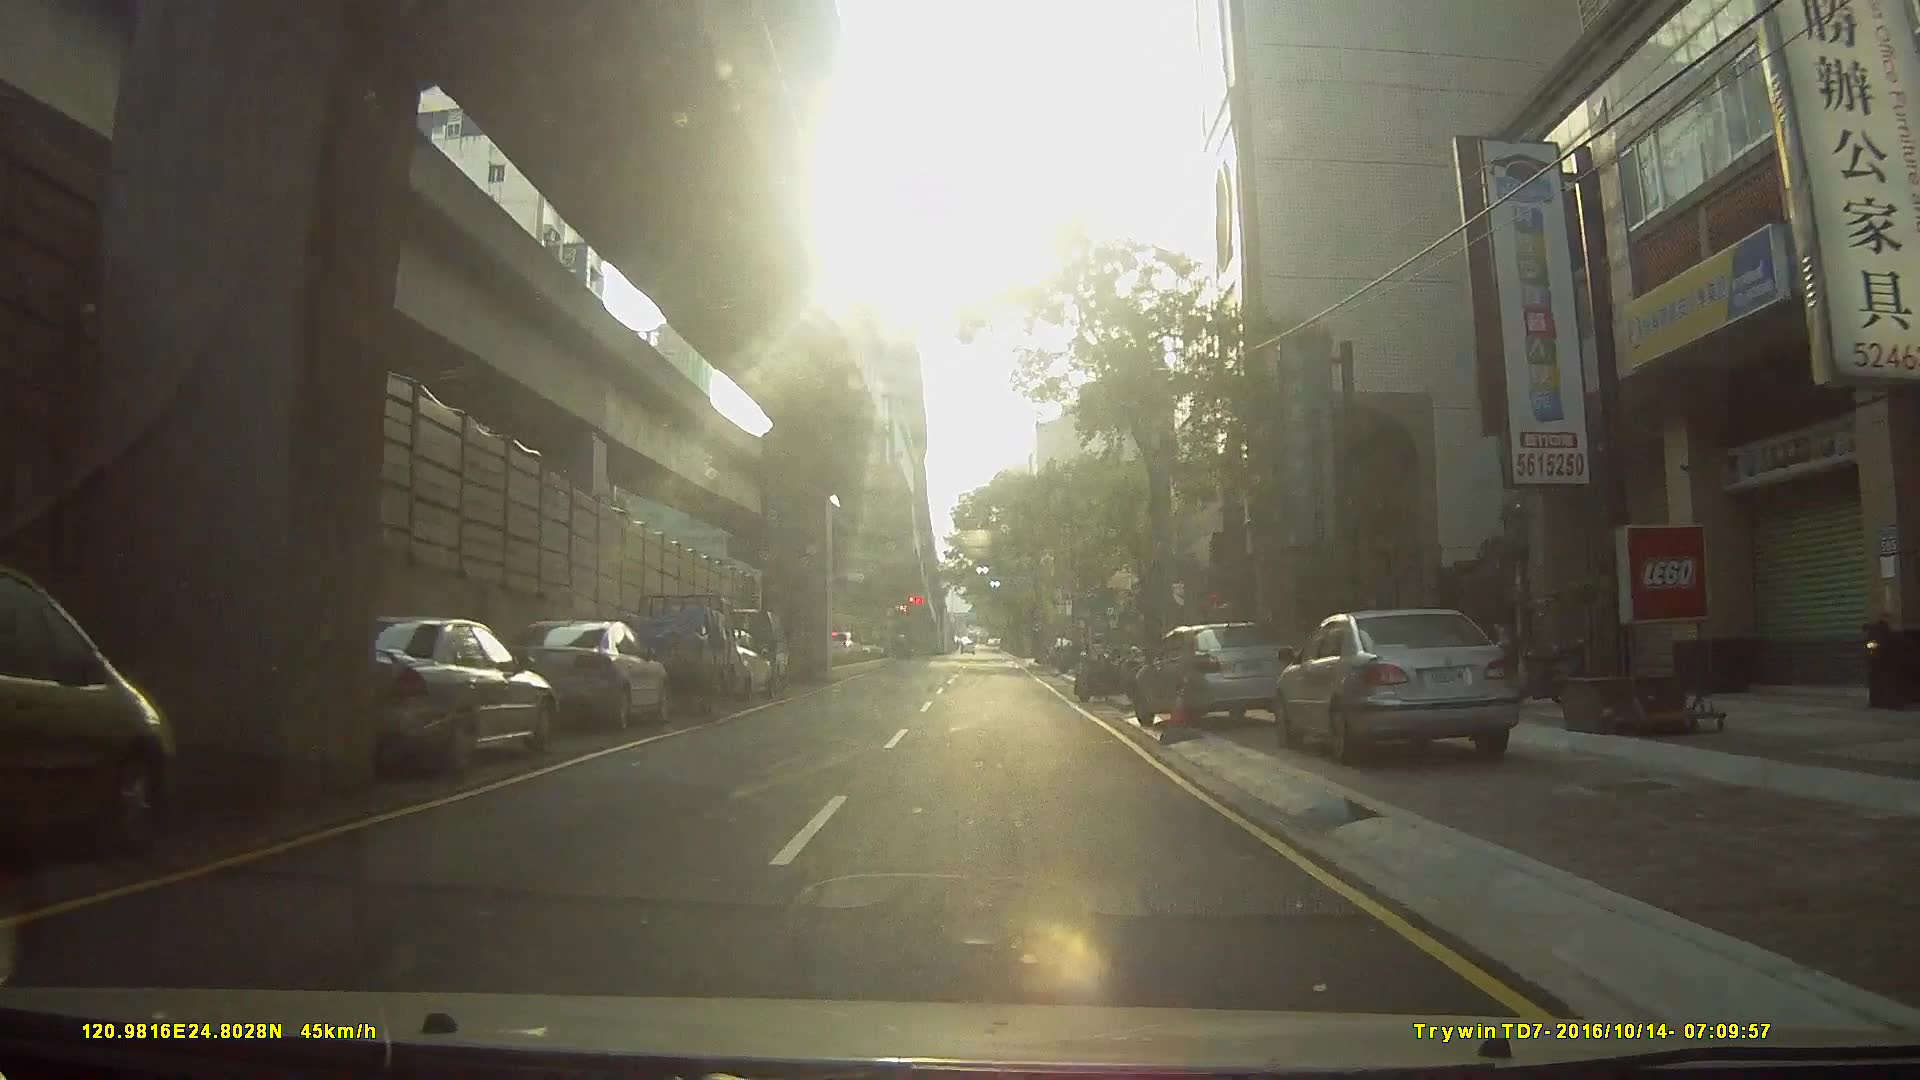rider: (1075, 628, 1138, 701)
vehicle: (1, 572, 190, 868), (307, 612, 566, 778), (1276, 603, 1539, 766), (490, 615, 665, 732), (1134, 615, 1307, 730), (606, 588, 738, 716)
